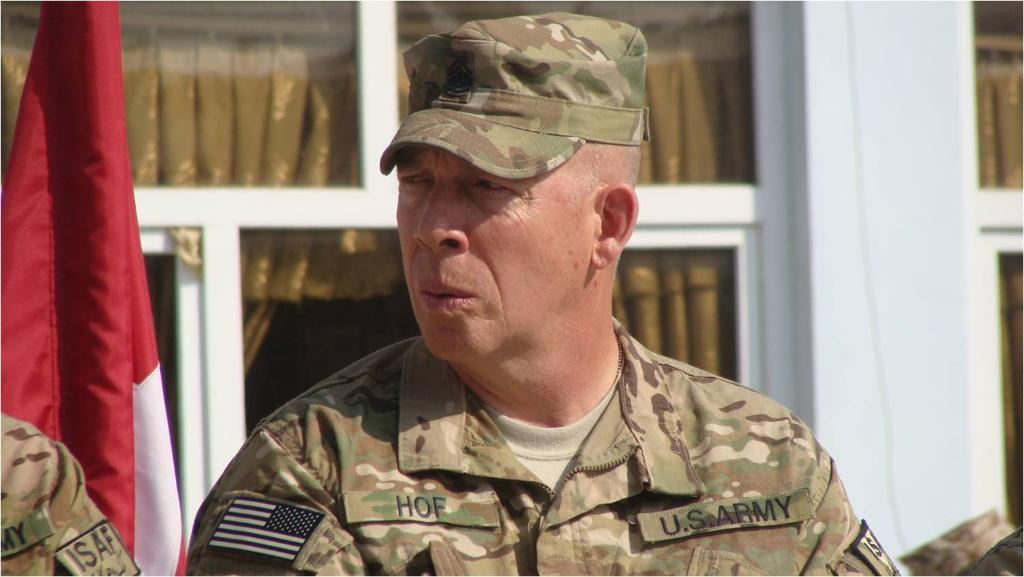Sem Máscara: (393, 144, 586, 354)
